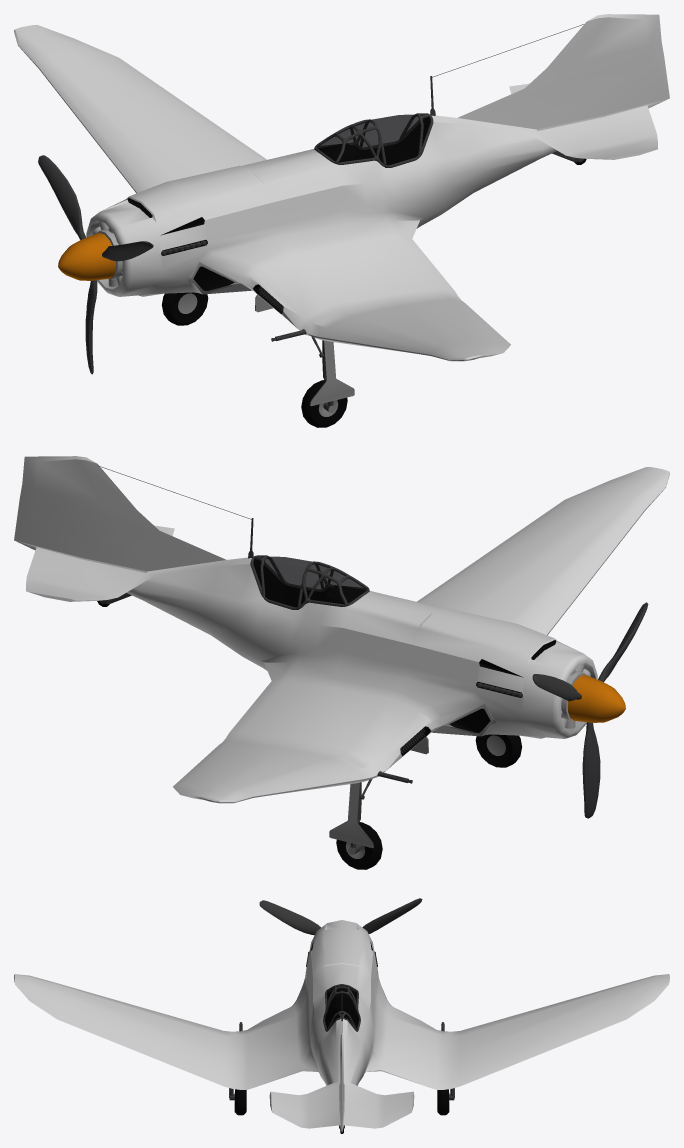
File: P100 Avenger.obj
3 views of the same model, one above another, from view 1: azimuth 30°, elevation 25°; view 2: azimuth 150°, elevation 25°; view 3: azimuth 270°, elevation 25° (orthographic). The views are drawn at different scales.
Parts seen in each view (by area): view 1: Avenger, Avenger_wheels, Avenger.001, Avenger_rotor, Avenger_nose, Avenger_cocpit, Avenger.002; view 2: Avenger, Avenger_wheels, Avenger.001, Avenger_rotor, Avenger_nose, Avenger_cocpit, Avenger.002; view 3: Avenger, Avenger_rotor, Avenger.001, Avenger_wheels, Avenger_cocpit, Avenger.002.
Part boxes in pixels (x1,y1,x2,y2): Avenger: (14, 14, 669, 361); Avenger_wheels: (162, 292, 354, 427); Avenger.001: (316, 114, 430, 167); Avenger_rotor: (38, 155, 153, 374); Avenger_nose: (58, 233, 115, 280); Avenger_cocpit: (314, 113, 433, 167); Avenger.002: (317, 117, 430, 167); Avenger: (14, 456, 669, 803); Avenger_wheels: (329, 734, 521, 869); Avenger.001: (253, 556, 367, 609); Avenger_rotor: (532, 602, 648, 818); Avenger_nose: (568, 675, 625, 722); Avenger_cocpit: (250, 555, 369, 609); Avenger.002: (253, 559, 366, 609); Avenger: (14, 920, 669, 1132); Avenger_rotor: (259, 898, 422, 935); Avenger.001: (324, 985, 359, 1029); Avenger_wheels: (229, 1088, 454, 1115); Avenger_cocpit: (323, 984, 360, 1031); Avenger.002: (325, 988, 358, 1028).
Bounding box in the file's own units: 8.92 × 3.86 × 11.41.
